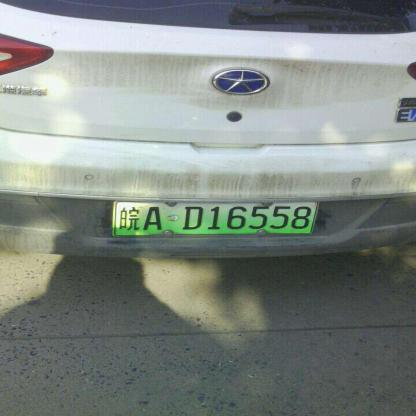lp: (114, 201, 321, 236)
